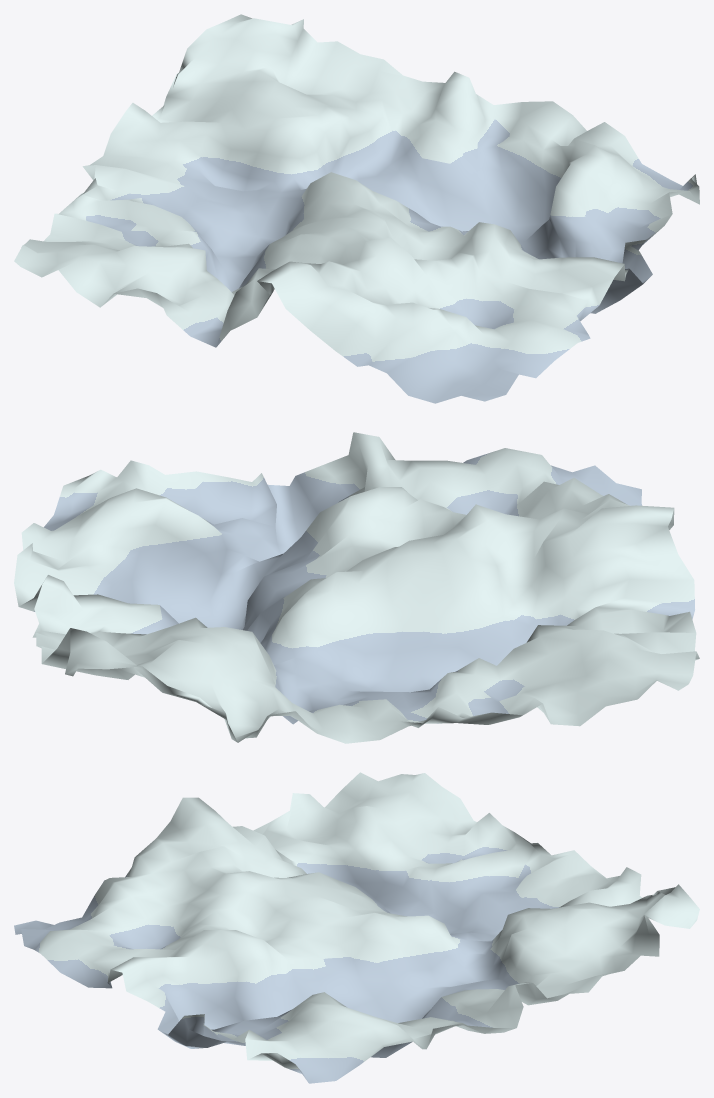
File: papel.005.fbx
The picture shows the model from 3 angles, top to bottom: view 1: azimuth 30°, elevation 25°; view 2: azimuth 150°, elevation 25°; view 3: azimuth 270°, elevation 25°; orthographic projection. The views are drawn at different scales.
Parts seen in each view (by area): view 1: papel.005; view 2: papel.005; view 3: papel.005.
Boxes of the visible parts, bbox=[...] form: papel.005: bbox=[14, 14, 699, 403]; papel.005: bbox=[14, 432, 699, 743]; papel.005: bbox=[14, 772, 699, 1083].
Size of the model in its own units: 335 by 72.34 by 352.
